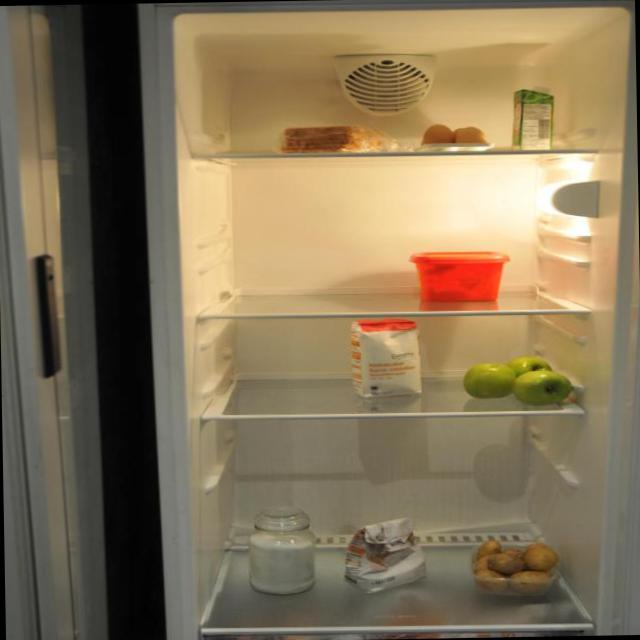Huevos: (414, 121, 496, 150)
Mantequilla: (411, 249, 507, 307)
Manzana: (457, 355, 572, 410)
Patata: (470, 536, 557, 597)
